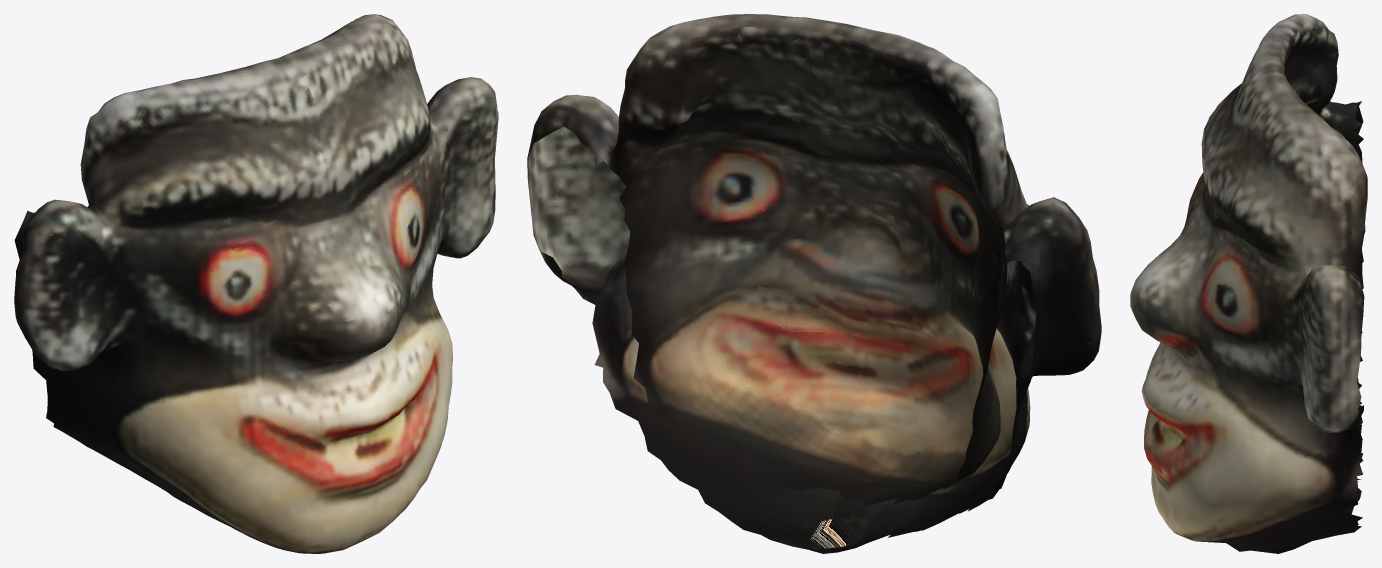
Rendered from mono.glb.
The picture shows the model from 3 angles, left to right: view 1: azimuth 30°, elevation 25°; view 2: azimuth 150°, elevation 25°; view 3: azimuth 270°, elevation 25°; orthographic projection. The views are drawn at different scales.
Visible parts, largest first — view 1: mesh; view 2: mesh; view 3: mesh.
Part boxes in pixels (<box>): mesh: <box>14,14,498,553</box>; mesh: <box>527,14,1101,553</box>; mesh: <box>1130,14,1367,553</box>.
Bounding box in the file's own units: 1.29 × 1.19 × 0.5387.
1 material, 1 textured.
